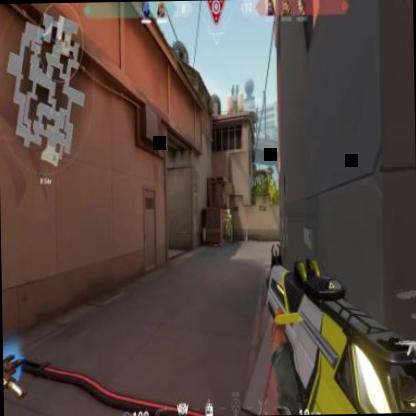enemy: (226, 206, 232, 245)
enemy_head: (226, 208, 230, 215)
